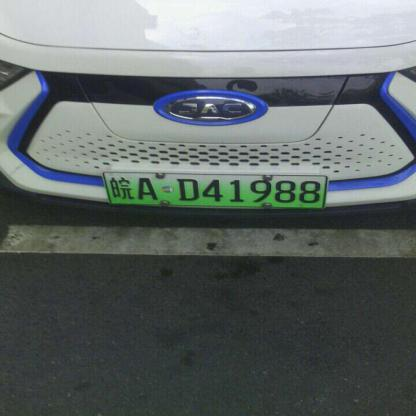lp: (101, 172, 329, 208)
